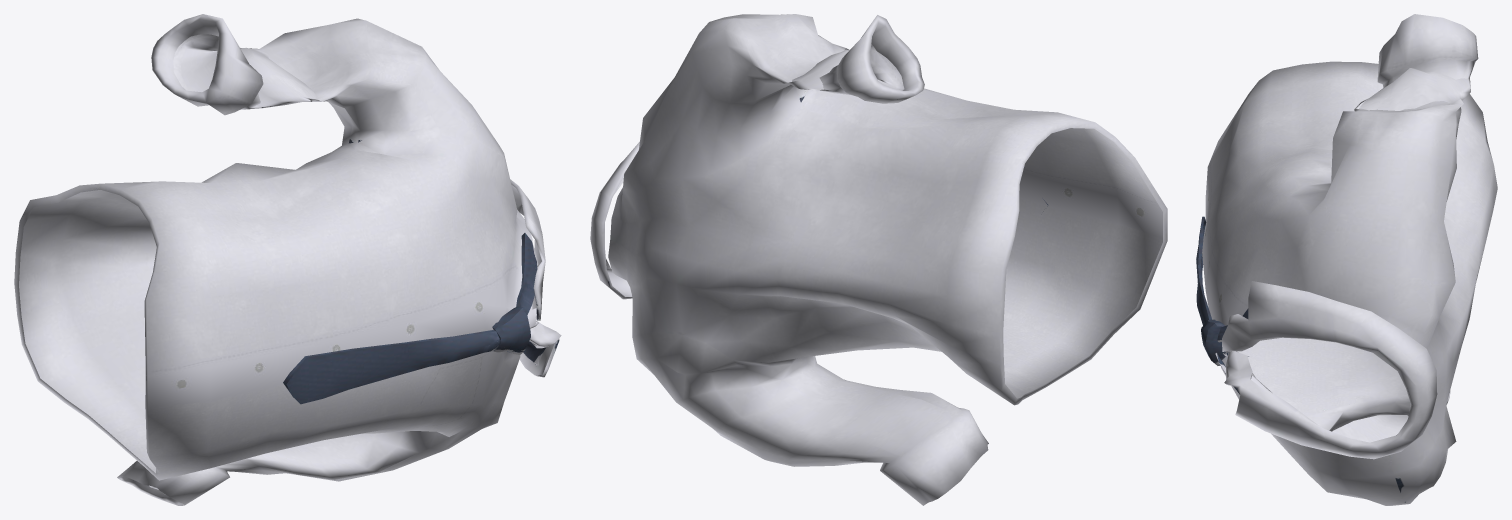
The model's file is shirt.glb.
3 renders of one model, left to right at view 1: azimuth 30°, elevation 25°; view 2: azimuth 150°, elevation 25°; view 3: azimuth 270°, elevation 25°, orthographic. The views are drawn at different scales.
Parts seen in each view (by area): view 1: Shirt_lo_M_cloth_0; view 2: Shirt_lo_M_cloth_0; view 3: Shirt_lo_M_cloth_0.
Part boxes in pixels (x1,y1,x2,y2): Shirt_lo_M_cloth_0: (14,14,561,505); Shirt_lo_M_cloth_0: (590,14,1167,505); Shirt_lo_M_cloth_0: (1196,14,1497,505).
Bounding box in the file's own units: 0.2564 × 0.2485 × 0.1579.
1 material, 1 textured.
